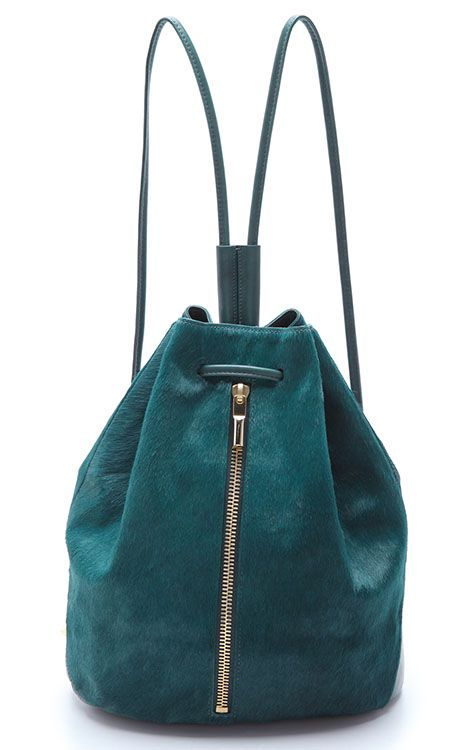cuero: (64, 14, 404, 723)
